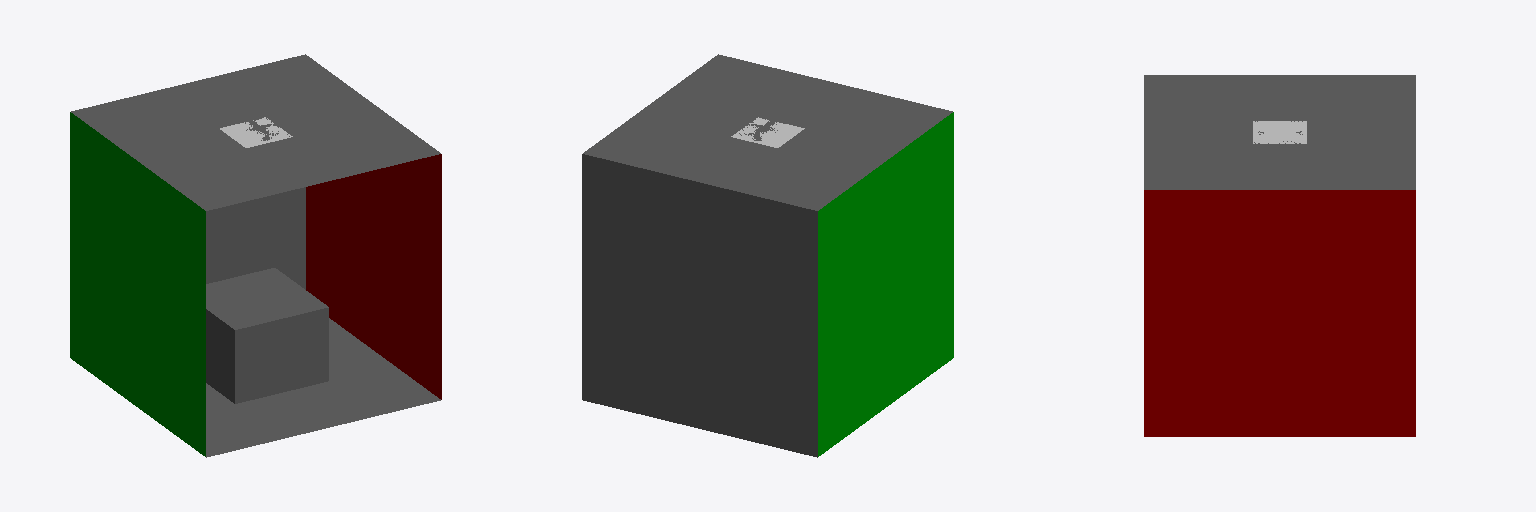
Rendered from cornellbox-test-4-lamp.obj.
3 renders of one model, left to right at view 1: azimuth 30°, elevation 25°; view 2: azimuth 150°, elevation 25°; view 3: azimuth 270°, elevation 25°, orthographic.
Visible parts, largest first — view 1: front_wall_Plane.005, ceiling_Plane.007, back_wall_Plane.001, Cube_Cube.001, floor_Plane, left_wall_Plane.002, 'lamp'_Plane.008; view 2: left_wall_Plane.002, front_wall_Plane.005, ceiling_Plane.007, 'lamp'_Plane.008; view 3: back_wall_Plane.001, ceiling_Plane.007, 'lamp'_Plane.008.
Part boxes in pixels (bbox=[...]): front_wall_Plane.005: bbox=[70, 112, 205, 456]; ceiling_Plane.007: bbox=[71, 54, 440, 210]; back_wall_Plane.001: bbox=[306, 154, 441, 399]; Cube_Cube.001: bbox=[206, 268, 328, 403]; floor_Plane: bbox=[206, 318, 440, 457]; left_wall_Plane.002: bbox=[206, 187, 305, 289]; 'lamp'_Plane.008: bbox=[220, 117, 292, 147]; left_wall_Plane.002: bbox=[582, 154, 817, 457]; front_wall_Plane.005: bbox=[818, 112, 953, 456]; ceiling_Plane.007: bbox=[583, 54, 952, 210]; 'lamp'_Plane.008: bbox=[731, 117, 804, 147]; back_wall_Plane.001: bbox=[1144, 190, 1415, 436]; ceiling_Plane.007: bbox=[1144, 75, 1415, 189]; 'lamp'_Plane.008: bbox=[1253, 121, 1306, 143].
Bounding box in the file's own units: 10 × 10 × 10.